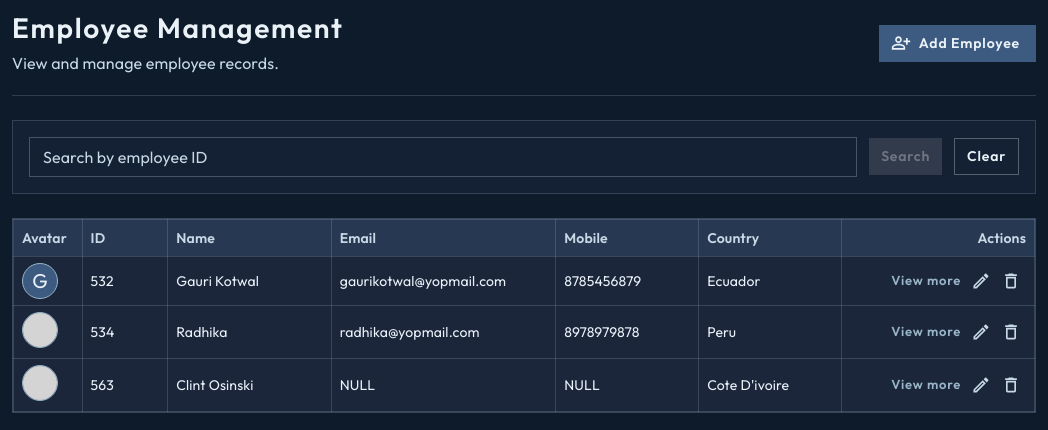
Scenario: EmployeeManagementContainer search › shows employee not found when the ID does not exist
Type "999" into the field labelled "Search by employee ID".
click(443, 157); type("999")  # box [29, 137, 857, 177]
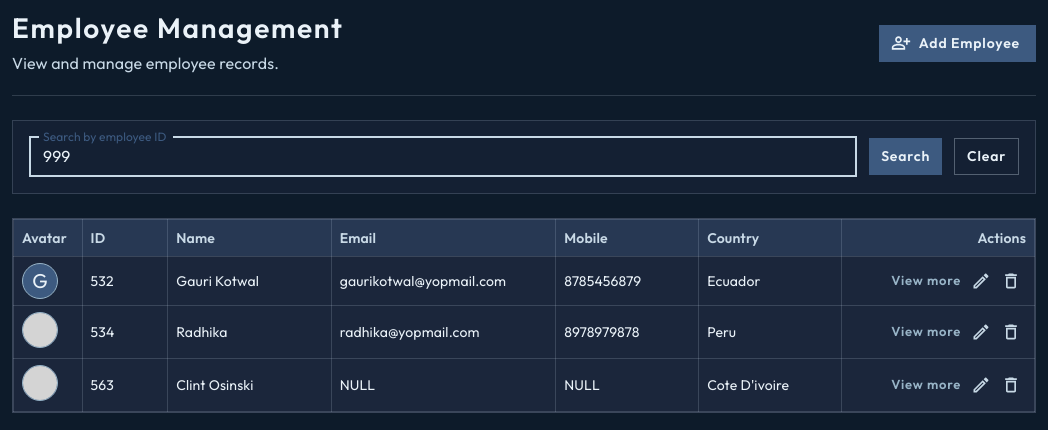
Click the button "Search".
click(906, 157)  # box [869, 138, 942, 175]
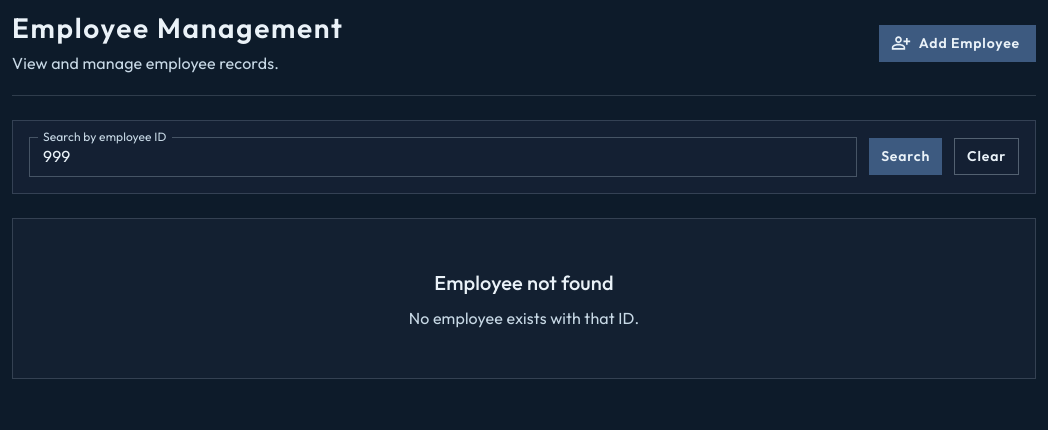
Now the text "Employee not found" is shown, box [434, 270, 614, 295]
Now the text "No employee exists with that ID." is shown, box [409, 308, 639, 328]
Now the text "Gauri Kotwal" is gone
